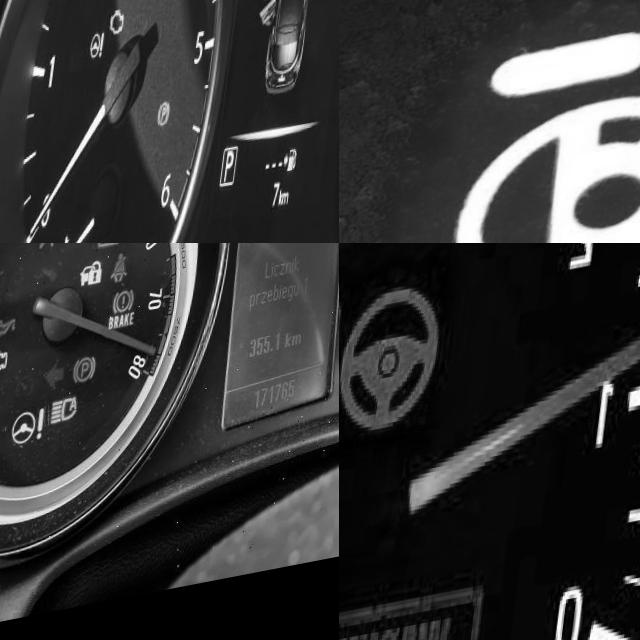Electronic Power Steering: (465, 29, 640, 243), (339, 288, 454, 457), (92, 36, 115, 65)
Seat Belt: (117, 260, 138, 294)
